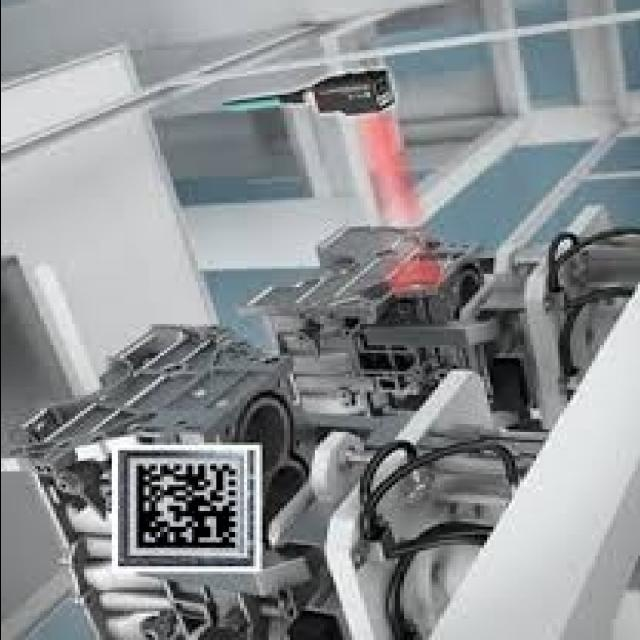Data-Matrix: (126, 453, 243, 553)
